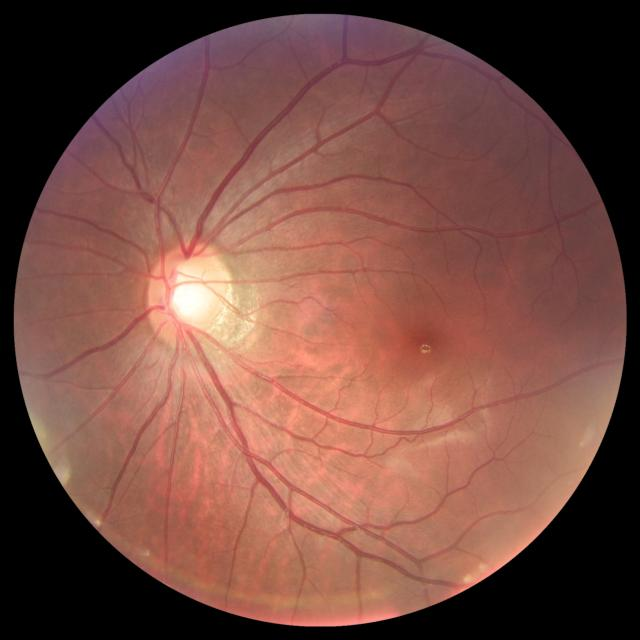OC: (162, 260, 218, 329)
OD: (146, 240, 232, 347)
